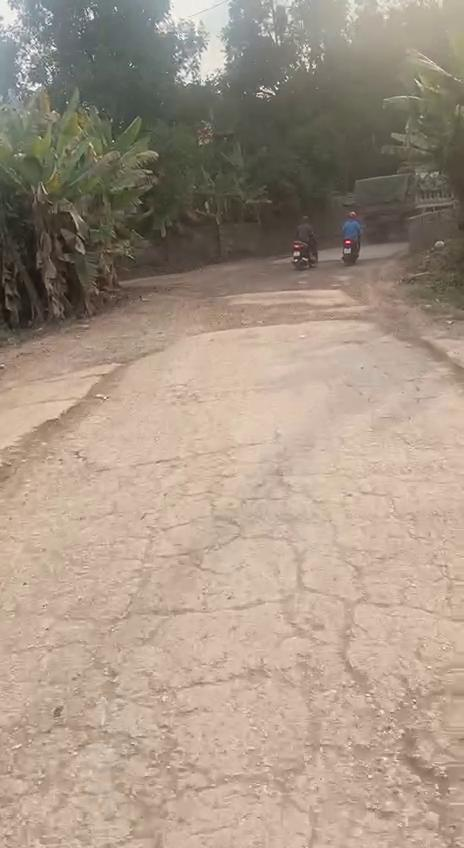pothole: (324, 662, 464, 848)
